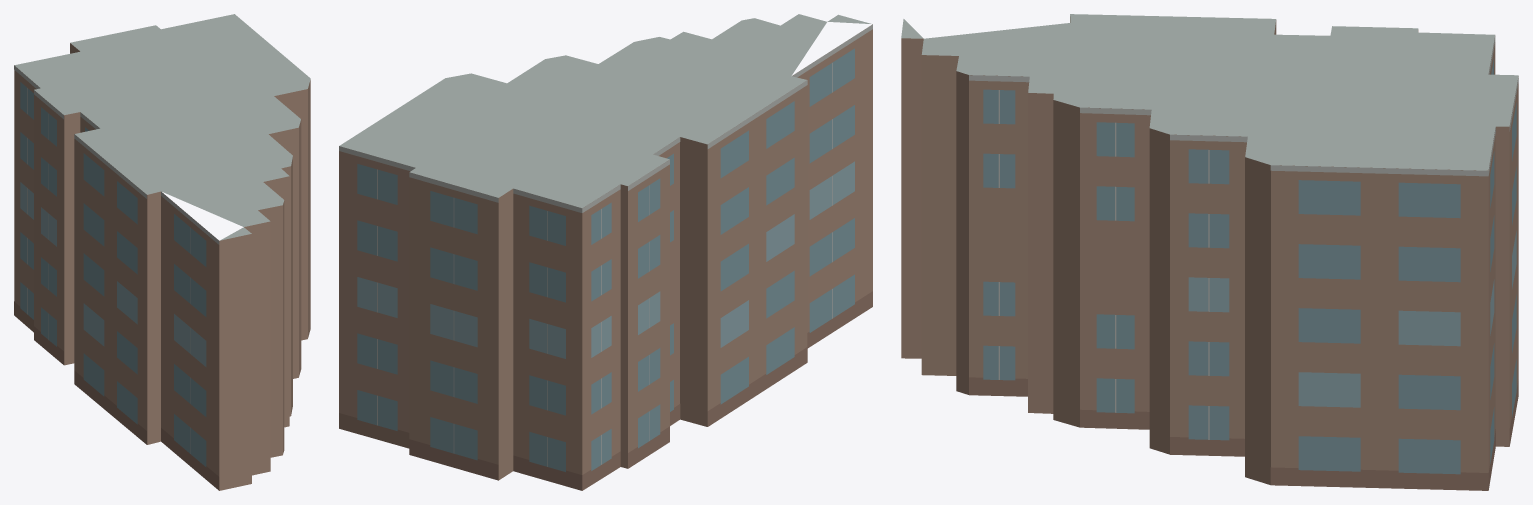
File: survey-upis-32835332.glb
3 renders of one model, left to right at view 1: azimuth 30°, elevation 25°; view 2: azimuth 150°, elevation 25°; view 3: azimuth 270°, elevation 25°, orthographic. The views are drawn at different scales.
Visible parts, largest first — view 1: survey-upis-32835332.tmp; view 2: survey-upis-32835332.tmp; view 3: survey-upis-32835332.tmp.
Boxes of the visible parts, bbox=[...] form: survey-upis-32835332.tmp: bbox=[14, 14, 310, 490]; survey-upis-32835332.tmp: bbox=[339, 14, 872, 490]; survey-upis-32835332.tmp: bbox=[901, 14, 1518, 490].
Size of the model in its own units: 14.6 by 13.89 by 24.29.
